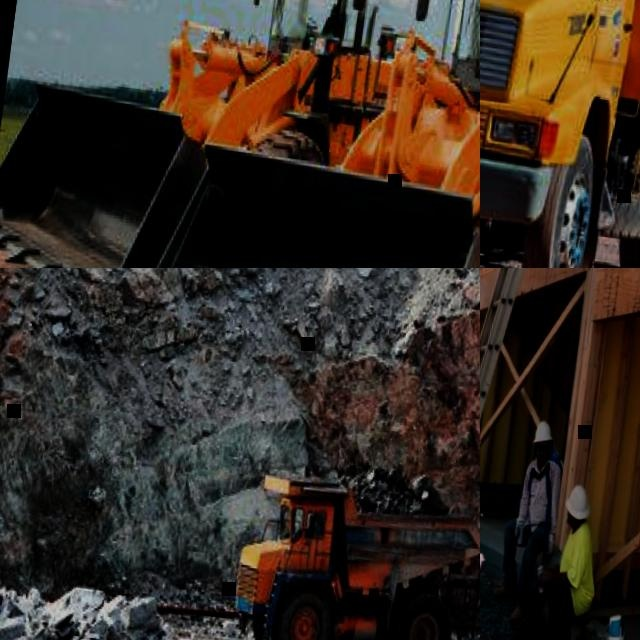Hardhat: (566, 479, 593, 521), (532, 419, 555, 445)
NO-Mask: (535, 452, 550, 467), (566, 514, 575, 524)
NO-Safety Vest: (557, 523, 595, 596), (519, 461, 557, 528)
Person: (497, 474, 608, 640), (491, 416, 569, 625)
machinery: (0, 0, 423, 268), (91, 0, 480, 268), (222, 451, 480, 640), (480, 0, 640, 268)
